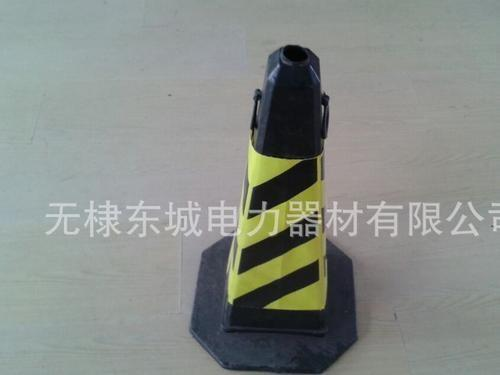cone_barrel: (193, 43, 348, 342)
